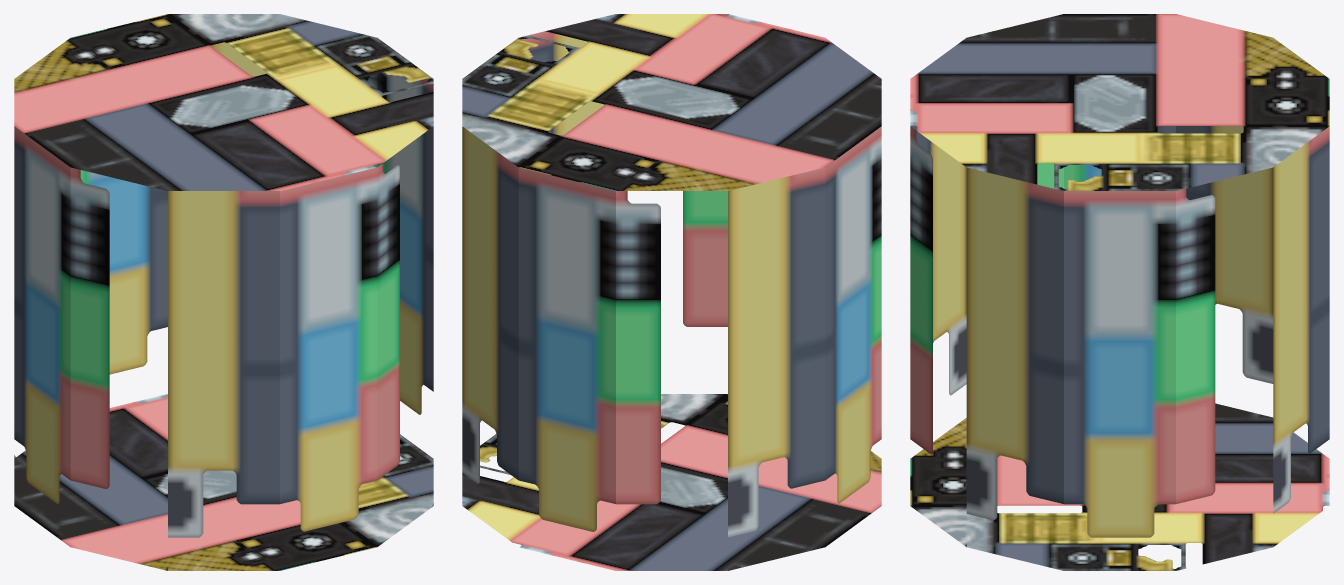
File: Rock Island.fbx
3 views of the same model, side by side, from view 1: azimuth 30°, elevation 25°; view 2: azimuth 150°, elevation 25°; view 3: azimuth 270°, elevation 25° (orthographic).
Visible parts, largest first — view 1: cylinder; view 2: cylinder; view 3: cylinder.
Part boxes in pixels (x1,y1,x2,y2): cylinder: [14, 14, 433, 570]; cylinder: [462, 14, 881, 570]; cylinder: [910, 14, 1329, 570].
Bounding box in the file's own units: 100 × 100 × 100.
